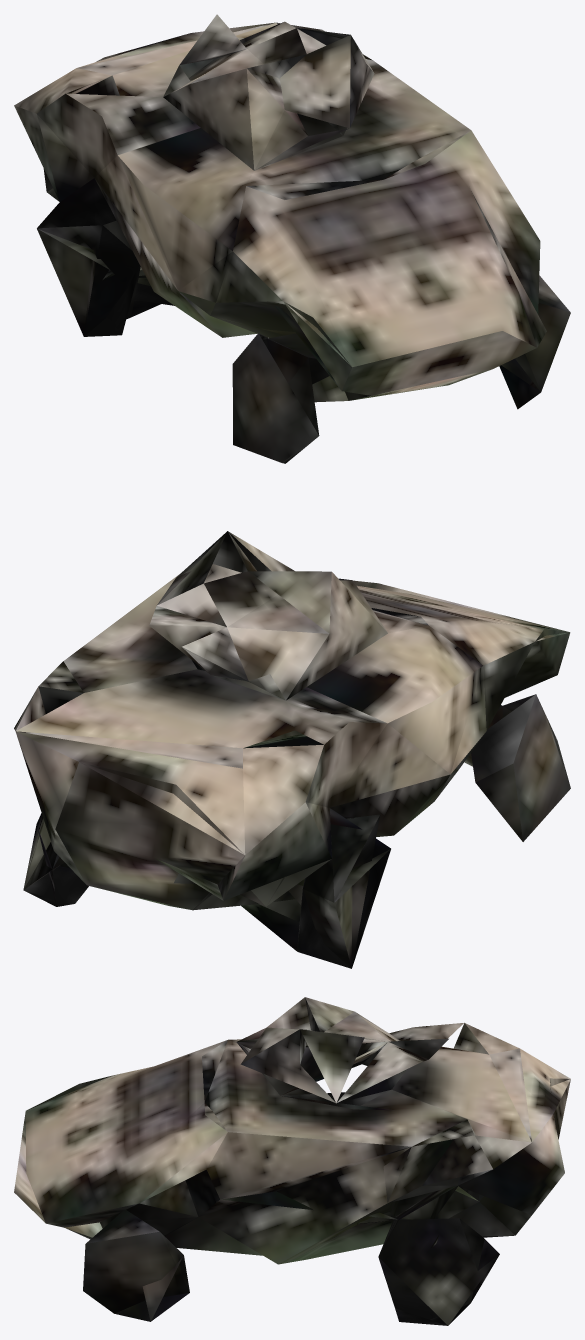
File: apc_963603111_lod1.glb
3 renders of one model, top to bottom at view 1: azimuth 30°, elevation 25°; view 2: azimuth 150°, elevation 25°; view 3: azimuth 270°, elevation 25°, orthographic. The views are drawn at different scales.
Bounding box in the file's own units: 4.1 × 3.9 × 7.49.
1 material, 1 textured.
